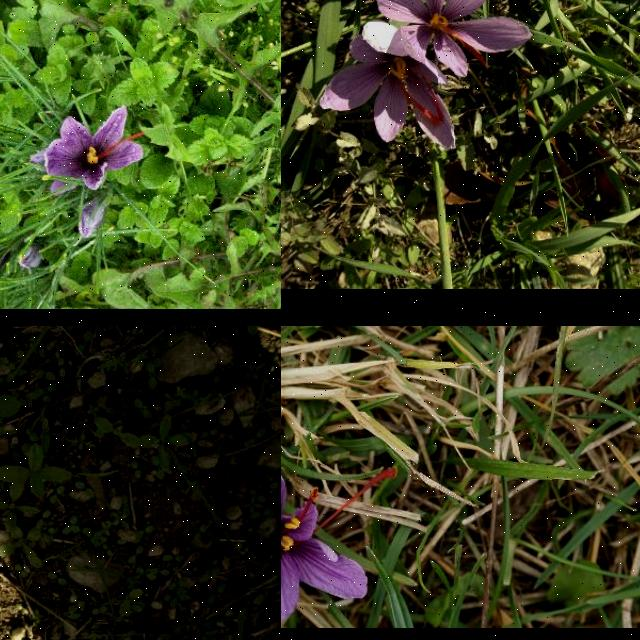flower: (281, 430, 398, 628), (319, 36, 457, 150), (376, 0, 530, 76), (44, 105, 146, 191), (78, 202, 106, 238), (17, 247, 45, 270)
